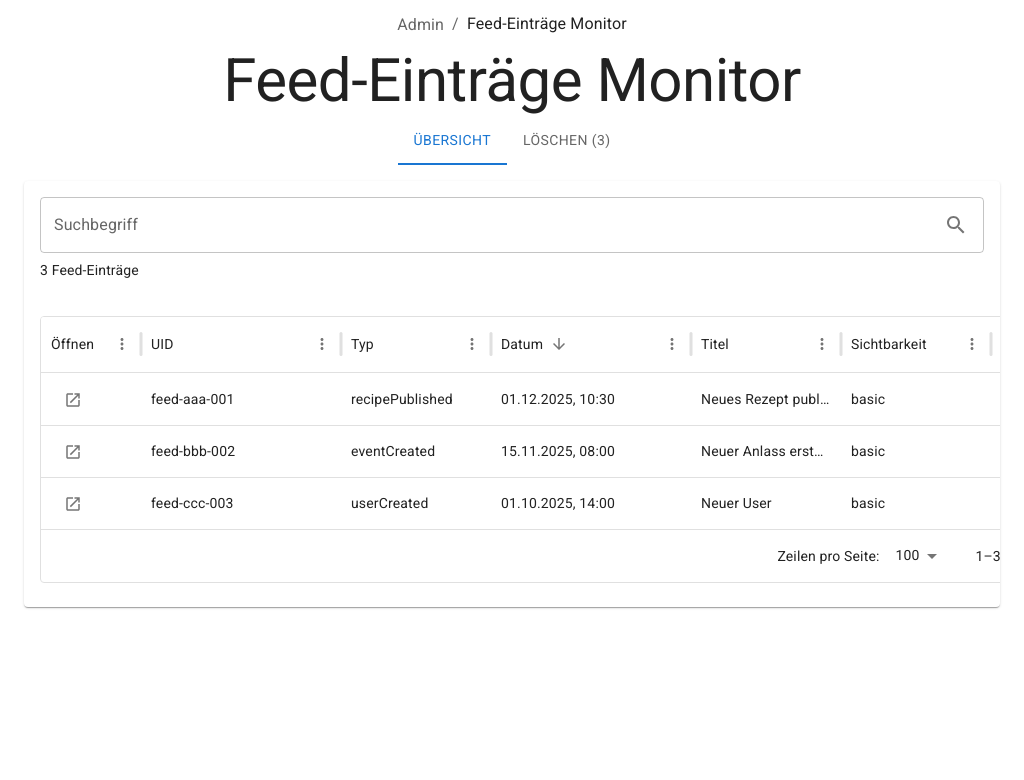
it: 12 – Delete-Tab zeigt Lösch-Panel mit Feed-Anzahl
The width and height of the screenshot is (1024, 780).
Auf den Delete-Tab wechseln
Click the tab "Löschen (3)".
click(567, 141)  # box [507,117,626,165]
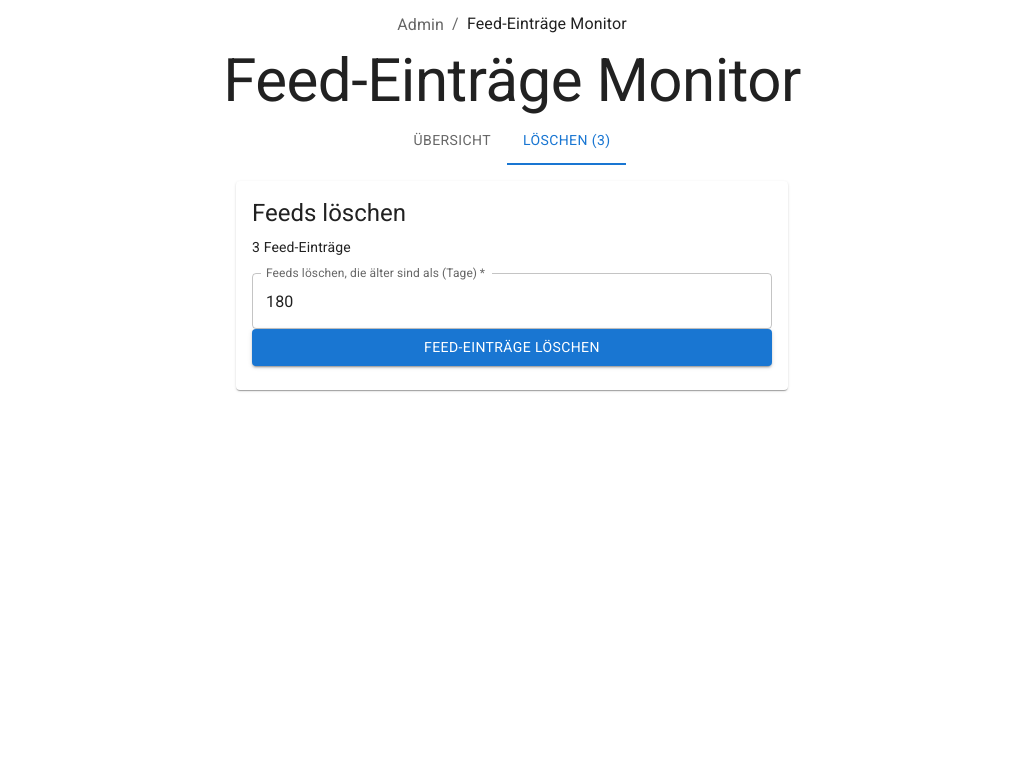
expect the text "3 Feed-Einträge" is shown: met, box [252,239,351,255]
expect the heading "Feeds löschen" is shown: met, box [252,199,406,227]
